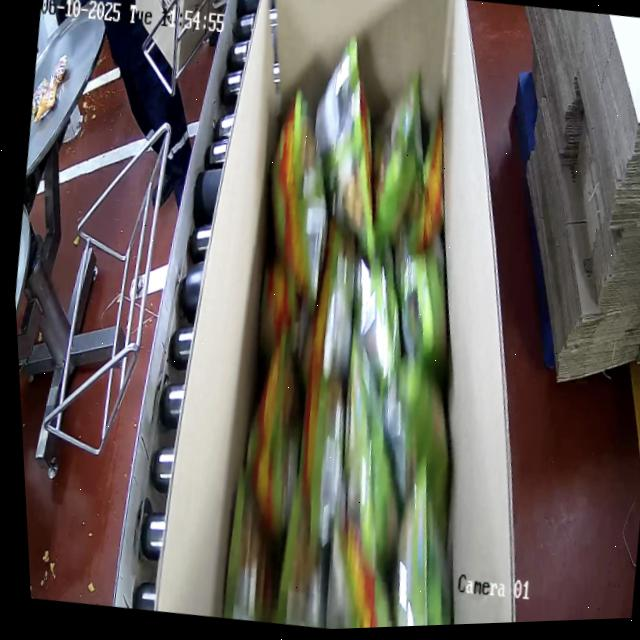YOGURT_HERB: (185, 22, 524, 633)
